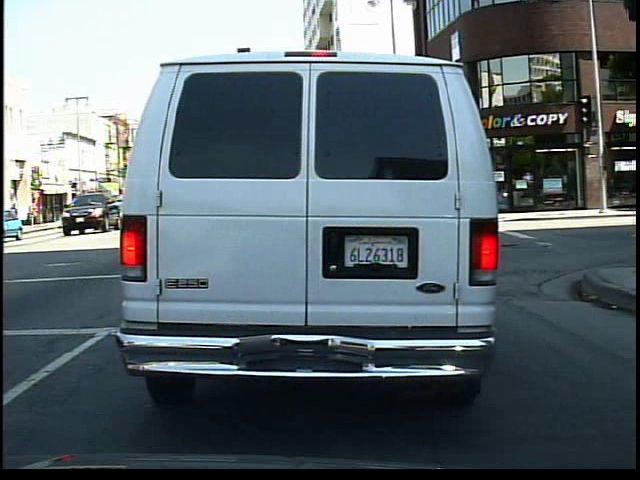person: (6, 200, 23, 233)
